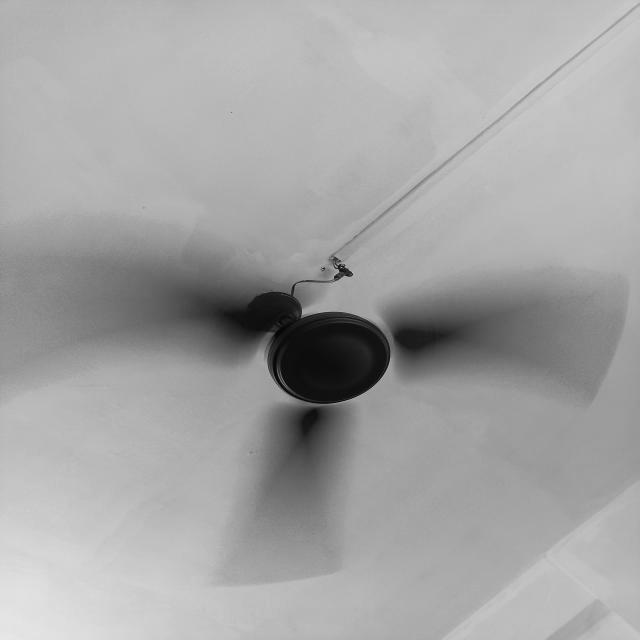fan: (0, 193, 630, 581)
